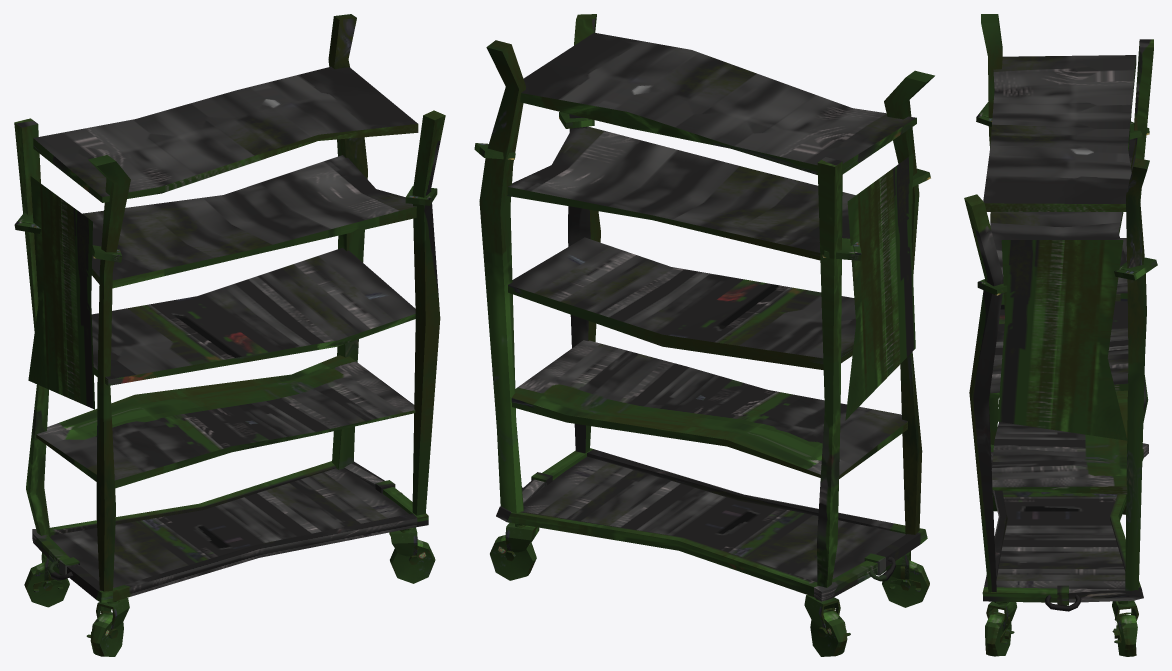
Rendered from BL_PlantShelves_MOD (1).fbx.
3 views of the same model, side by side, from view 1: azimuth 30°, elevation 25°; view 2: azimuth 150°, elevation 25°; view 3: azimuth 270°, elevation 25° (orthographic). The views are drawn at different scales.
Visible parts, largest first — view 1: BL_PlantShelves_MOD; view 2: BL_PlantShelves_MOD; view 3: BL_PlantShelves_MOD.
Part boxes in pixels (left/top/right/bottom): BL_PlantShelves_MOD: left=14, top=14, right=445, bottom=656; BL_PlantShelves_MOD: left=474, top=14, right=934, bottom=656; BL_PlantShelves_MOD: left=964, top=14, right=1157, bottom=656.
Size of the model in its own units: 101 by 135 by 47.73.
